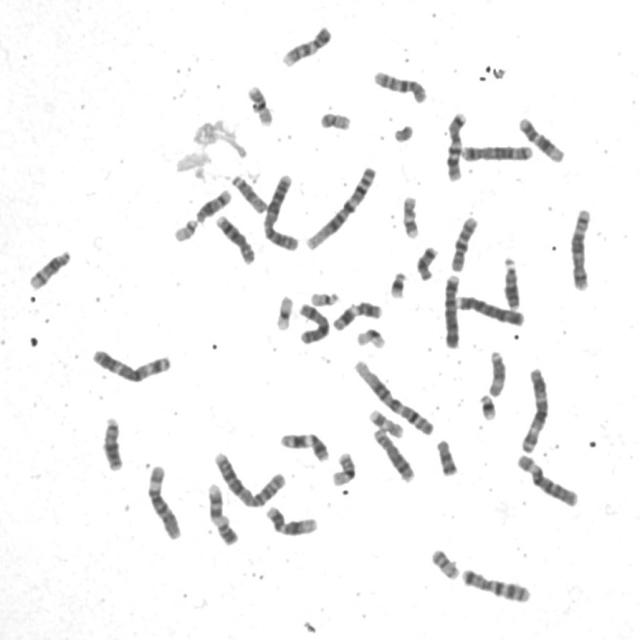A1: (349, 354, 437, 437), (301, 161, 378, 252)
A2: (209, 445, 288, 509), (258, 168, 302, 252)
A3: (87, 343, 173, 384), (516, 362, 552, 455)
B4: (452, 290, 527, 328), (439, 269, 463, 349)
B5: (565, 202, 594, 292), (456, 139, 534, 162)
C10: (369, 64, 429, 104), (446, 210, 480, 272)
C11: (328, 295, 384, 332), (276, 427, 331, 463)
C12: (514, 111, 566, 164), (261, 501, 320, 537)
C6: (512, 449, 582, 509), (141, 459, 184, 541)
C7: (457, 562, 533, 604), (442, 106, 469, 183)
C8: (369, 422, 416, 483), (211, 209, 257, 266)
C9: (277, 20, 334, 68), (202, 477, 240, 547)
D13: (98, 411, 124, 472), (499, 251, 522, 310)
D14: (24, 243, 73, 291), (191, 183, 234, 224)
D15: (227, 168, 269, 214), (483, 345, 508, 398)
E16: (243, 80, 275, 127), (328, 446, 358, 487)
E17: (364, 404, 406, 439), (398, 190, 422, 240)
E18: (411, 240, 440, 282), (432, 434, 459, 478)
F19: (351, 322, 388, 350), (271, 290, 295, 332)
F20: (426, 544, 462, 581), (314, 106, 352, 131)
G21: (474, 388, 499, 421), (385, 266, 408, 300)
G22: (169, 213, 200, 243), (306, 286, 342, 307)
X: (295, 298, 331, 345)
